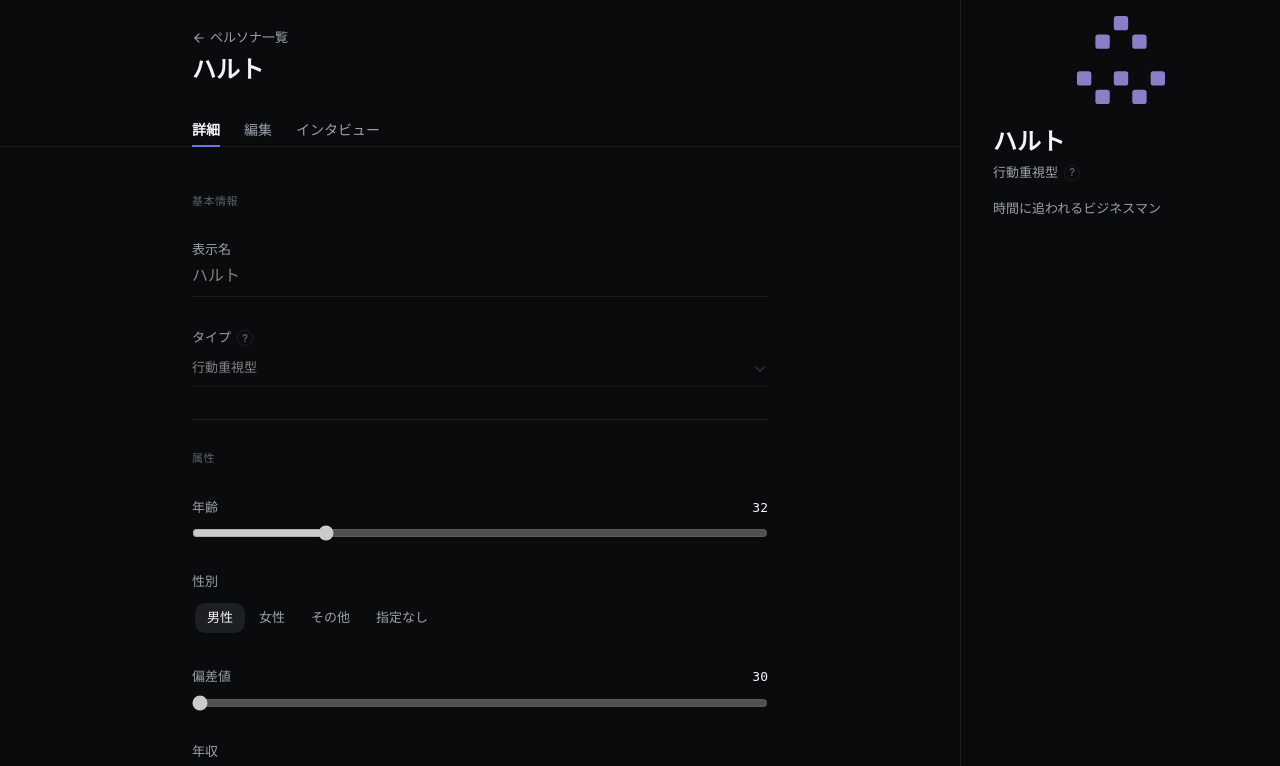
Test case: PersonaUnifiedPage › sticky フッターに削除・キャンセル・保存ボタンがある
Click the button "編集" at (258, 133), box [244, 120, 272, 146]
(page scrolled)
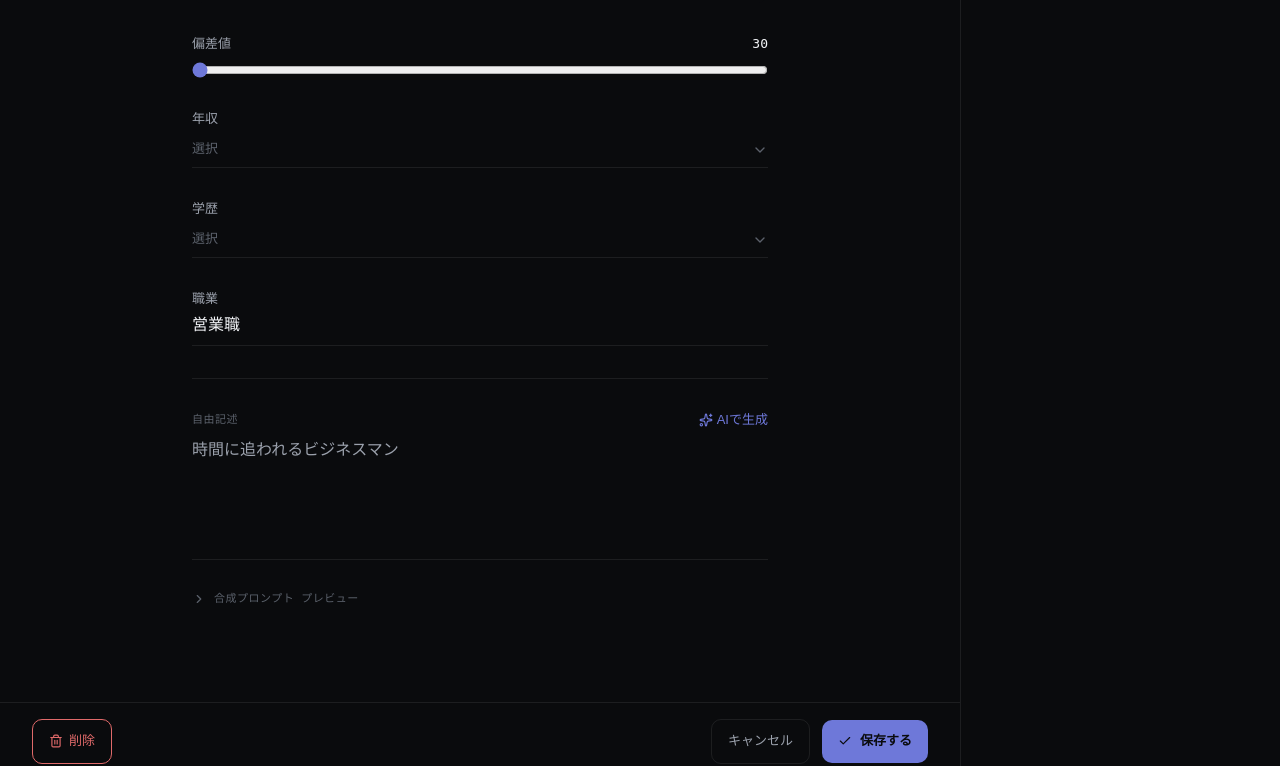
Result: the button "削除" is shown at [32, 719, 112, 764]
Result: the button "キャンセル" is shown at [711, 719, 810, 764]
Result: the button "保存する" is shown at [822, 720, 928, 763]
